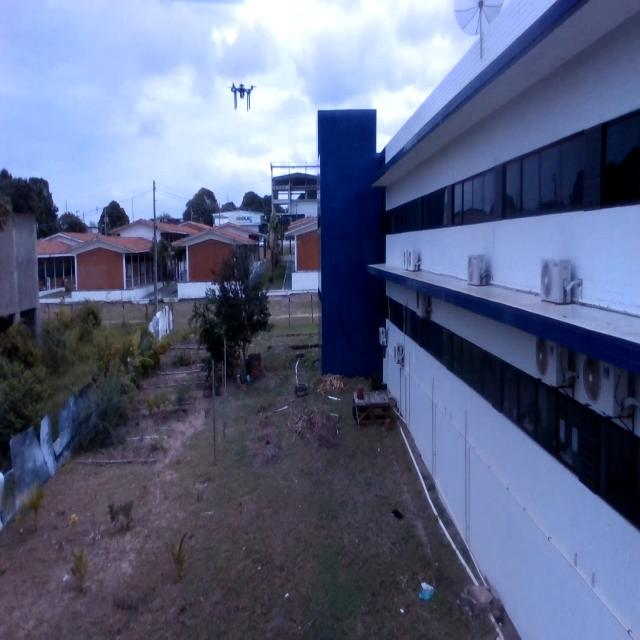-uav-: (223, 71, 264, 120)
